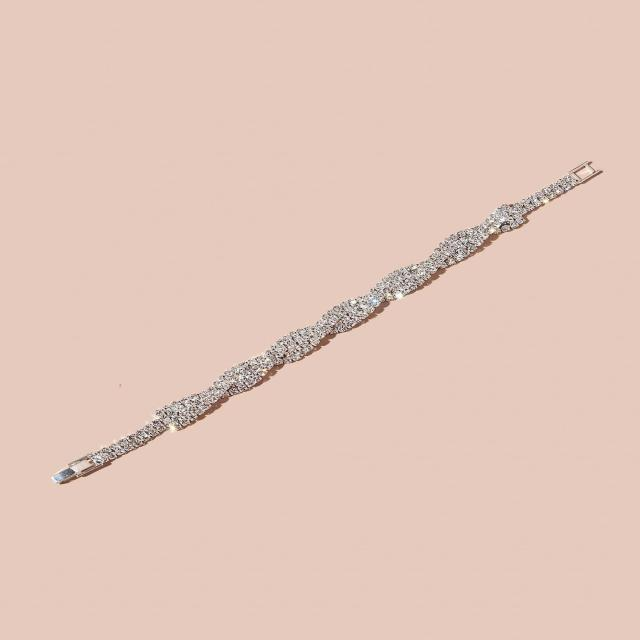bracelet: (22, 109, 640, 542)
